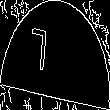L_S: (44, 28, 66, 82)
